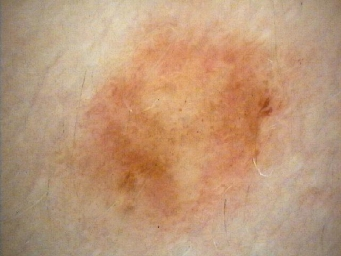melanoma: (81, 36, 283, 228)
